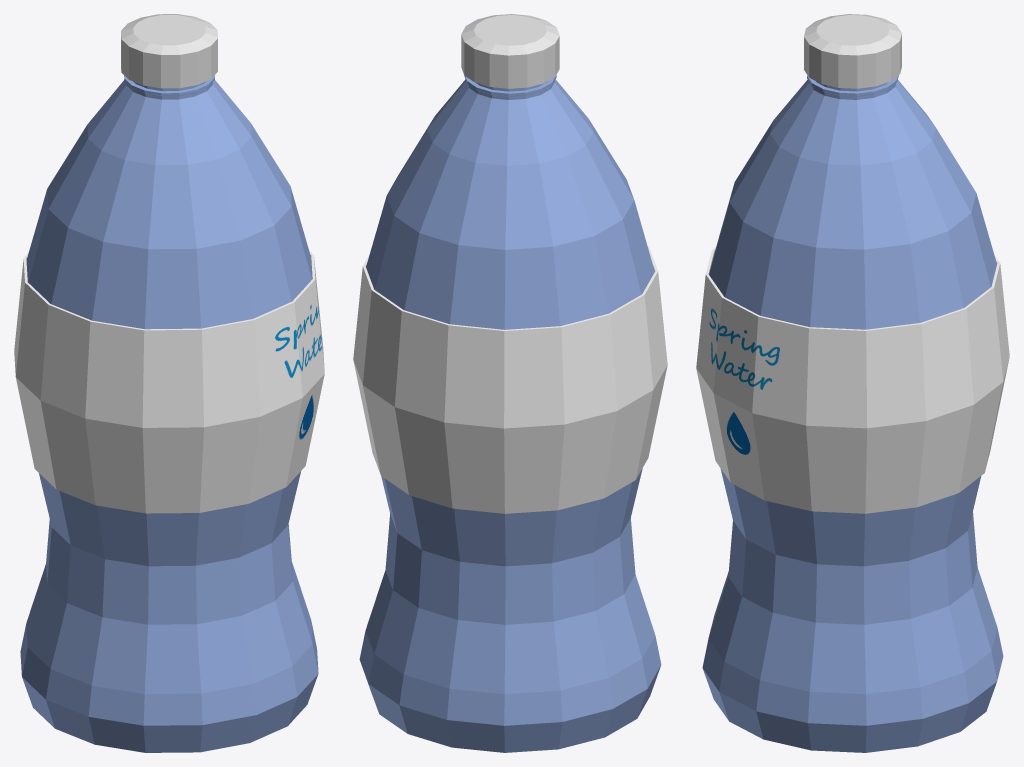
Rendered from bottle.gltf.
3 views of the same model, side by side, from view 1: azimuth 30°, elevation 25°; view 2: azimuth 150°, elevation 25°; view 3: azimuth 270°, elevation 25° (orthographic).
Parts seen in each view (by area): view 1: Cylinder, Cylinder.002, Cylinder.001; view 2: Cylinder, Cylinder.002, Cylinder.001; view 3: Cylinder, Cylinder.002, Cylinder.001.
Boxes of the visible parts, x1,y1,x2,y2 form: Cylinder: (20,75,318,752); Cylinder.002: (14,250,324,513); Cylinder.001: (121,14,217,88); Cylinder: (359,75,661,752); Cylinder.002: (353,246,667,513); Cylinder.001: (461,14,559,88); Cylinder: (702,75,1003,752); Cylinder.002: (696,247,1009,513); Cylinder.001: (804,14,901,88).
Bounding box in the file's own units: 2.24 × 5.24 × 2.24.
Materials: 3 (1 with a texture image).
